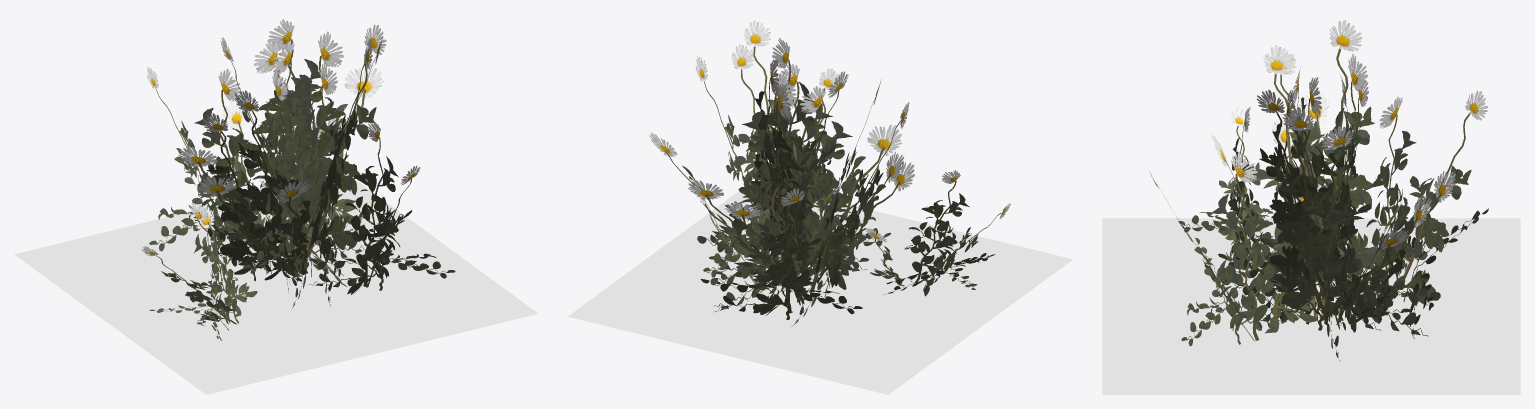
Rendered from Daisy.fbx.
3 views of the same model, side by side, from view 1: azimuth 30°, elevation 25°; view 2: azimuth 150°, elevation 25°; view 3: azimuth 270°, elevation 25° (orthographic). The views are drawn at different scales.
Visible parts, largest first — view 1: Plane, Daisy; view 2: Plane, Daisy; view 3: Plane, Daisy.
Part boxes in pixels (bbox=[...]): Plane: bbox=[14, 174, 538, 394]; Daisy: bbox=[141, 19, 455, 340]; Plane: bbox=[568, 183, 1072, 394]; Daisy: bbox=[649, 20, 1010, 326]; Plane: bbox=[1102, 218, 1520, 394]; Daisy: bbox=[1149, 20, 1488, 361].
Bounding box in the file's own units: 75.24 × 63.41 × 75.
